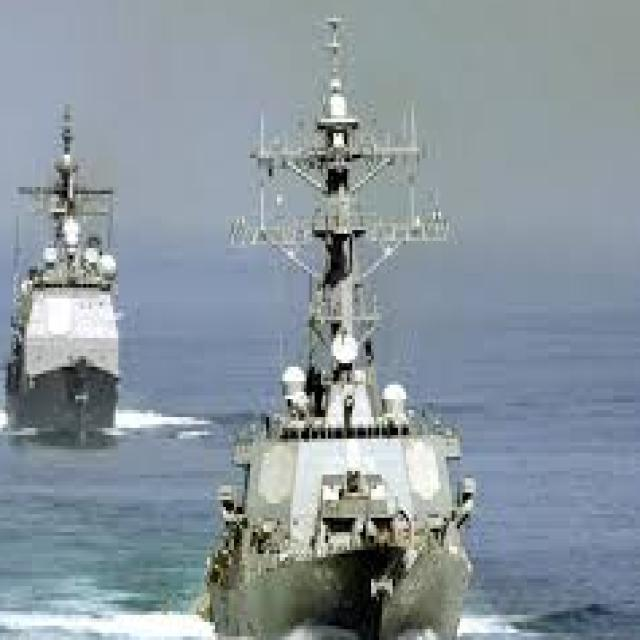navalvessels: (205, 13, 492, 637), (0, 88, 126, 434)
